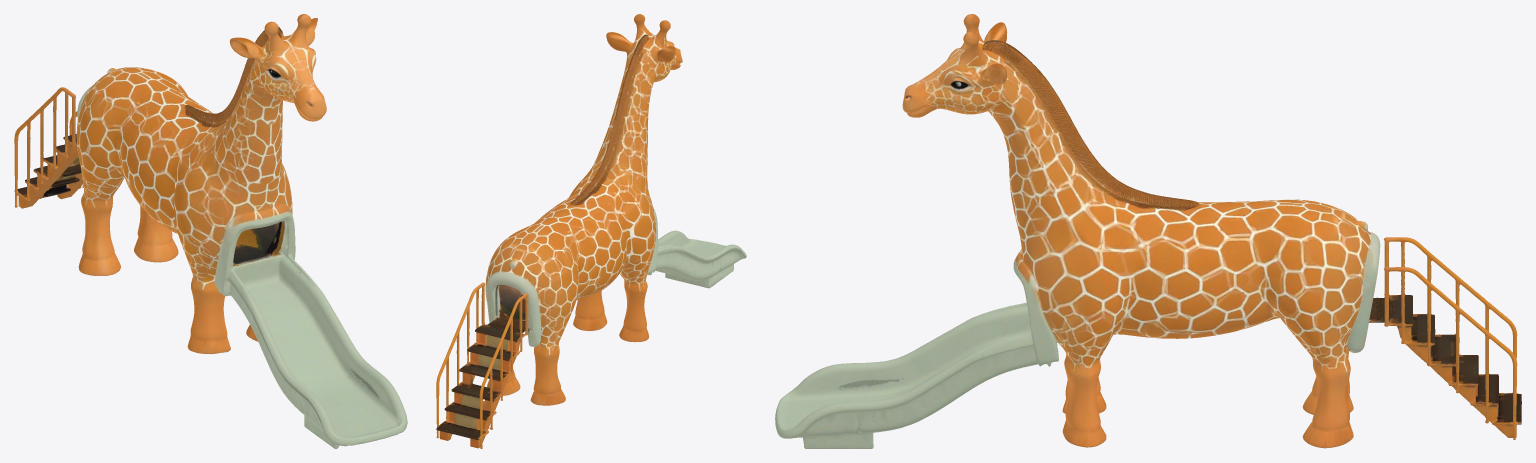
Rendered from slide.glb.
The picture shows the model from 3 angles, left to right: view 1: azimuth 30°, elevation 25°; view 2: azimuth 150°, elevation 25°; view 3: azimuth 270°, elevation 25°; orthographic projection. The views are drawn at different scales.
Visible parts, largest first — view 1: Object_4; view 2: Object_4; view 3: Object_4.
Part boxes in pixels (box(x1,y1,x2,y2)): Object_4: box(14, 14, 407, 448); Object_4: box(436, 14, 746, 448); Object_4: box(775, 14, 1521, 448).
Size of the model in its own units: 0.3457 by 1.15 by 1.9.
Materials: 1 (1 with a texture image).
